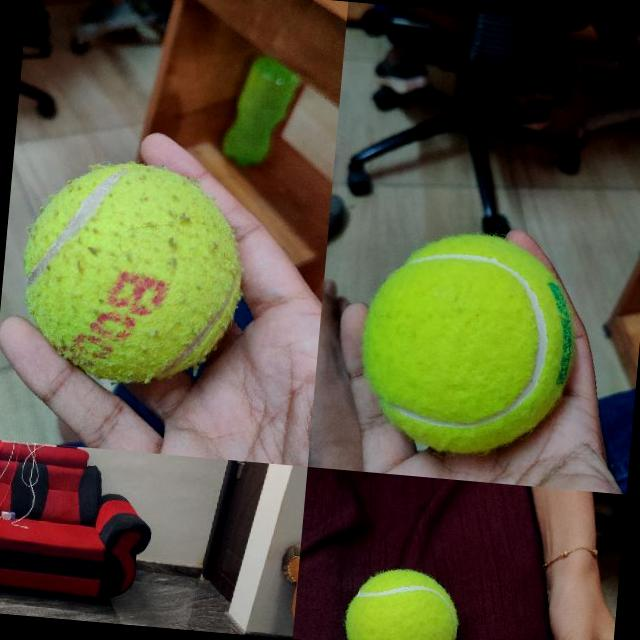Tennis Ball: (14, 154, 250, 390), (354, 224, 584, 462), (344, 565, 462, 640)
